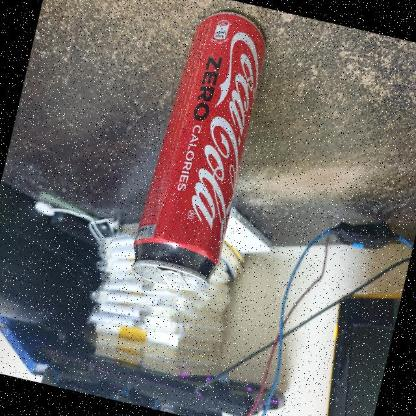Can: (122, 0, 280, 312)
